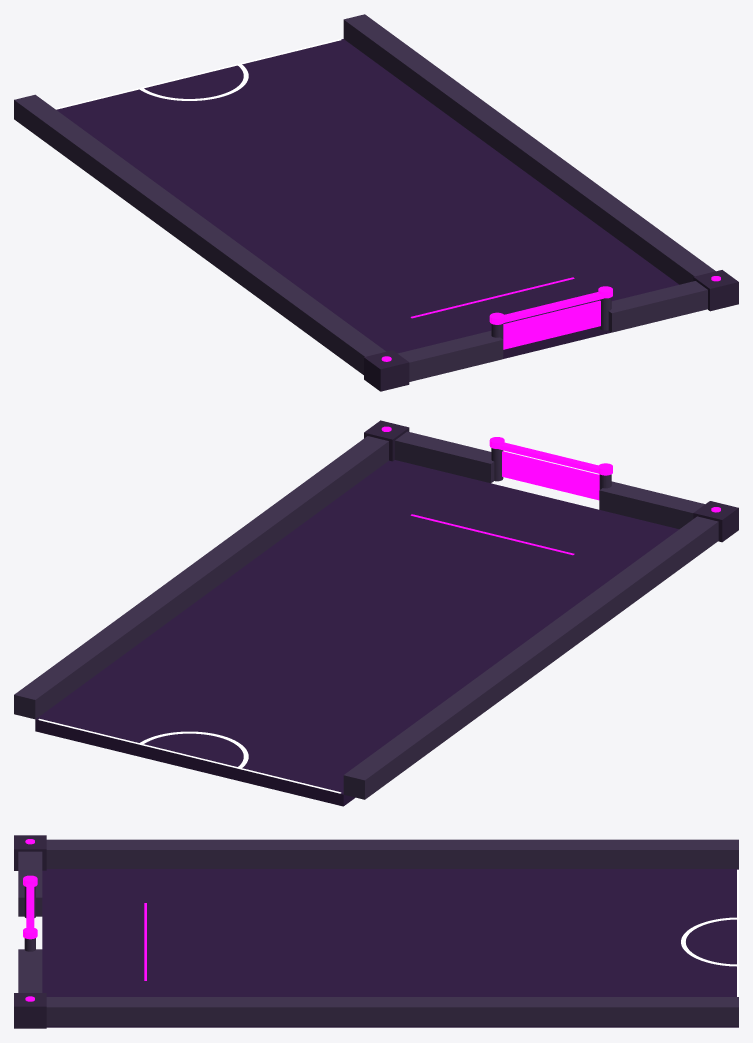
The model's file is mesa_retro_synthwave_half_p1.glb.
3 views of the same model, one above another, from view 1: azimuth 30°, elevation 25°; view 2: azimuth 150°, elevation 25°; view 3: azimuth 270°, elevation 25° (orthographic). The views are drawn at different scales.
Parts seen in each view (by area): view 1: SynthwaveHalfP1_Surface, SynthwaveHalfP1_RailL, SynthwaveHalfP1_RailR, Cube.004, Cube.002, Cube.009, Cube.006, Cube.007, Cube.008, SynthwaveHalfP1_TopEdgeLaser; view 2: SynthwaveHalfP1_Surface, SynthwaveHalfP1_RailL, SynthwaveHalfP1_RailR, Cube.004, Cube.002, Cube.009, Cube.006, Cube.008, Cube.007, SynthwaveHalfP1_TopEdgeLaser; view 3: SynthwaveHalfP1_Surface, SynthwaveHalfP1_RailL, SynthwaveHalfP1_RailR, Cube.002, Cube.007, Cube.004, Cube.006, SynthwaveHalfP1_CenterArcOuter, Cube.008.
Boxes of the visible parts, x1,y1,x2,y2 form: SynthwaveHalfP1_Surface: (56, 39, 678, 358); SynthwaveHalfP1_RailL: (14, 94, 385, 374); SynthwaveHalfP1_RailR: (343, 14, 715, 284); Cube.004: (608, 281, 707, 332); Cube.002: (397, 331, 503, 381); Cube.009: (503, 300, 600, 349); Cube.006: (364, 350, 409, 391); Cube.007: (693, 270, 738, 311); Cube.008: (504, 292, 603, 322); SynthwaveHalfP1_TopEdgeLaser: (55, 39, 341, 109); SynthwaveHalfP1_Surface: (35, 460, 678, 806); SynthwaveHalfP1_RailL: (343, 516, 718, 799); SynthwaveHalfP1_RailR: (14, 436, 388, 719); Cube.004: (395, 431, 494, 483); Cube.002: (599, 481, 704, 529); Cube.009: (502, 451, 599, 500); Cube.006: (693, 501, 738, 542); Cube.008: (499, 442, 598, 473); Cube.007: (364, 420, 409, 461); SynthwaveHalfP1_TopEdgeLaser: (38, 718, 341, 793); SynthwaveHalfP1_Surface: (42, 869, 738, 1027); SynthwaveHalfP1_RailL: (46, 839, 738, 868); SynthwaveHalfP1_RailR: (46, 997, 738, 1026); Cube.002: (18, 851, 42, 916); Cube.007: (14, 993, 46, 1028); Cube.004: (18, 949, 42, 992); Cube.006: (14, 835, 46, 870); SynthwaveHalfP1_CenterArcOuter: (681, 917, 736, 966); Cube.008: (26, 884, 34, 927).
Size of the model in its own units: 1.26 by 0.17 by 2.25.
